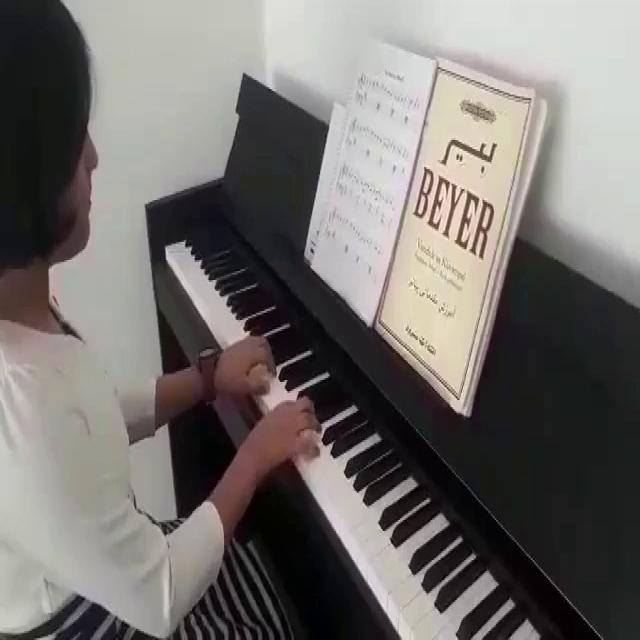Piano: (159, 210, 583, 640)
